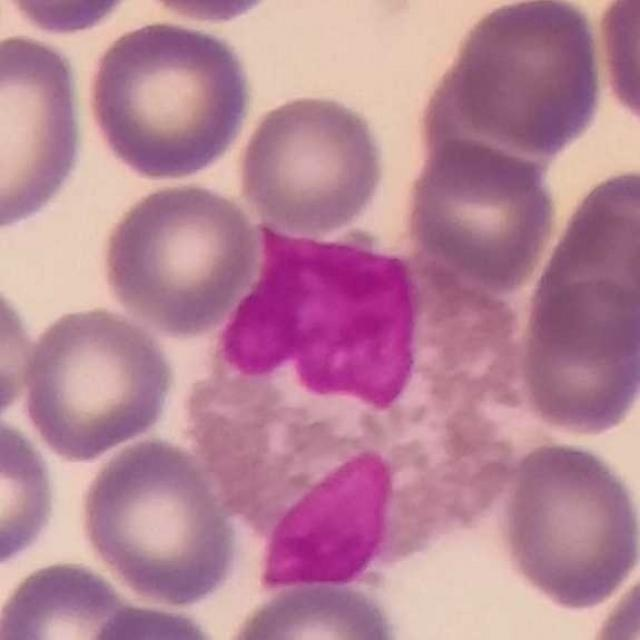eosino: (181, 213, 539, 584)
